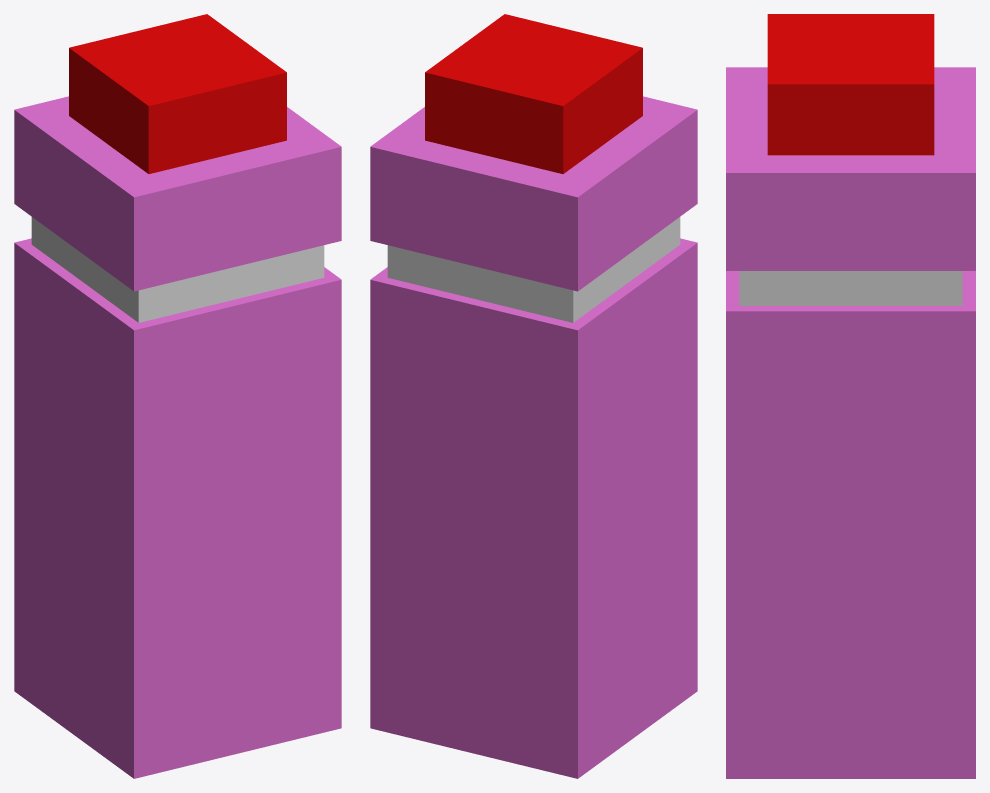
The model's file is Button.fbx.
The picture shows the model from 3 angles, left to right: view 1: azimuth 30°, elevation 25°; view 2: azimuth 150°, elevation 25°; view 3: azimuth 270°, elevation 25°; orthographic projection. The views are drawn at different scales.
Visible parts, largest first — view 1: Cube, Cube.001; view 2: Cube, Cube.001; view 3: Cube, Cube.001.
Boxes of the visible parts, x1,y1,x2,y2 form: Cube: (14, 96, 341, 778); Cube.001: (69, 14, 286, 173); Cube: (370, 96, 697, 778); Cube.001: (425, 14, 642, 173); Cube: (726, 67, 975, 778); Cube.001: (767, 14, 934, 155).
Size of the model in its own units: 74.74 by 223 by 74.74.
